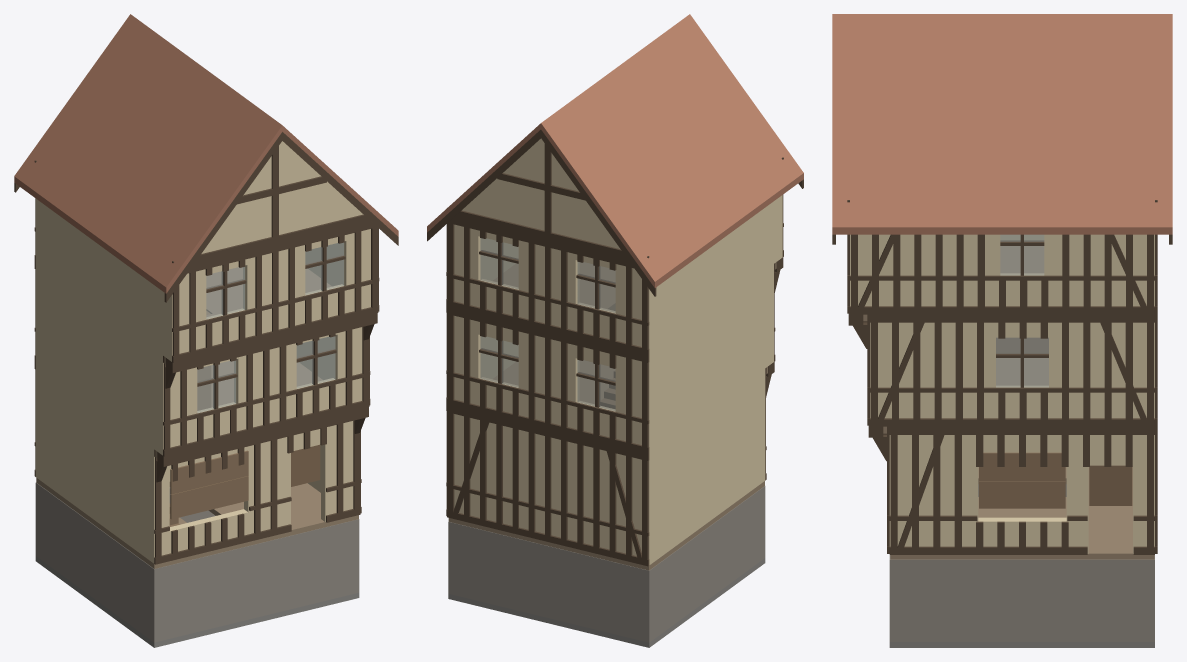
The model's file is corner-a.glb.
3 views of the same model, side by side, from view 1: azimuth 30°, elevation 25°; view 2: azimuth 150°, elevation 25°; view 3: azimuth 270°, elevation 25° (orthographic). The views are drawn at different scales.
Parts seen in each view (by area): view 1: render, roof, timber, stone, glass, floor, corner-a-shutter-02 leaf, flags, corner-a-shutter-01 leaf, corner-a-door-01 leaf, stair; view 2: render, timber, roof, stone, glass, floor, flags; view 3: roof, timber, render, stone, floor, glass, corner-a-shutter-04 leaf, corner-a-shutter-03 leaf, corner-a-door-02 leaf, flags, stair.
Part boxes in pixels (left/top/right/bottom): render: left=35, top=141, right=370, bottom=563; roof: left=14, top=14, right=398, bottom=293; timber: left=14, top=132, right=398, bottom=564; stone: left=35, top=482, right=359, bottom=642; glass: left=197, top=242, right=343, bottom=412; floor: left=36, top=267, right=358, bottom=568; corner-a-shutter-02 leaf: left=170, top=476, right=248, bottom=519; flags: left=35, top=556, right=359, bottom=647; corner-a-shutter-01 leaf: left=170, top=450, right=248, bottom=494; corner-a-door-01 leaf: left=291, top=444, right=320, bottom=486; stair: left=169, top=311, right=210, bottom=526; render: left=454, top=138, right=782, bottom=565; timber: left=427, top=129, right=803, bottom=566; roof: left=427, top=14, right=803, bottom=287; stone: left=448, top=486, right=765, bottom=642; glass: left=480, top=238, right=615, bottom=411; floor: left=448, top=262, right=776, bottom=570; flags: left=448, top=558, right=765, bottom=647; roof: left=832, top=14, right=1172, bottom=234; timber: left=832, top=200, right=1172, bottom=554; render: left=850, top=234, right=1154, bottom=553; stone: left=889, top=484, right=1154, bottom=641; floor: left=863, top=246, right=1154, bottom=559; glass: left=996, top=234, right=1048, bottom=387; corner-a-shutter-04 leaf: left=979, top=481, right=1065, bottom=508; corner-a-shutter-03 leaf: left=979, top=452, right=1065, bottom=480; corner-a-door-02 leaf: left=1089, top=465, right=1132, bottom=505; flags: left=889, top=642, right=1154, bottom=647; stair: left=996, top=338, right=1048, bottom=352.
Size of the model in its own units: 6.8 by 14.43 by 7.7.
